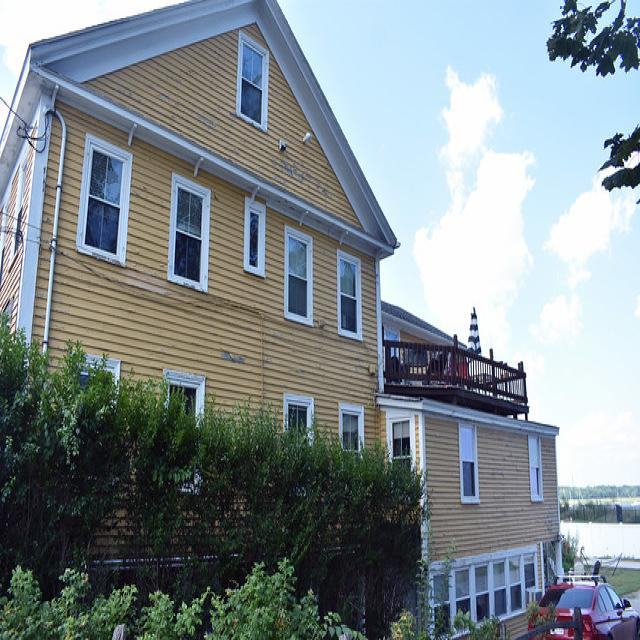building: (9, 6, 564, 633)
